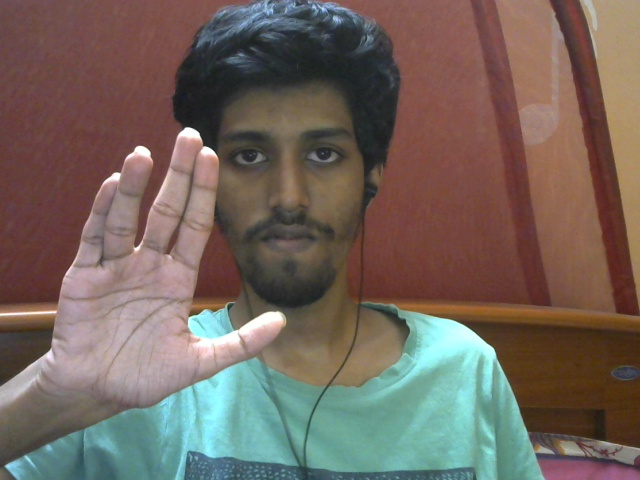LiveLong: (50, 127, 287, 411)
